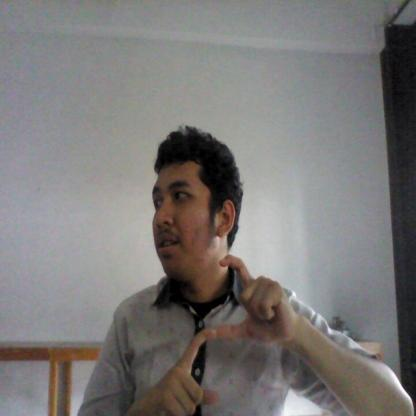S: (155, 241, 292, 415)
